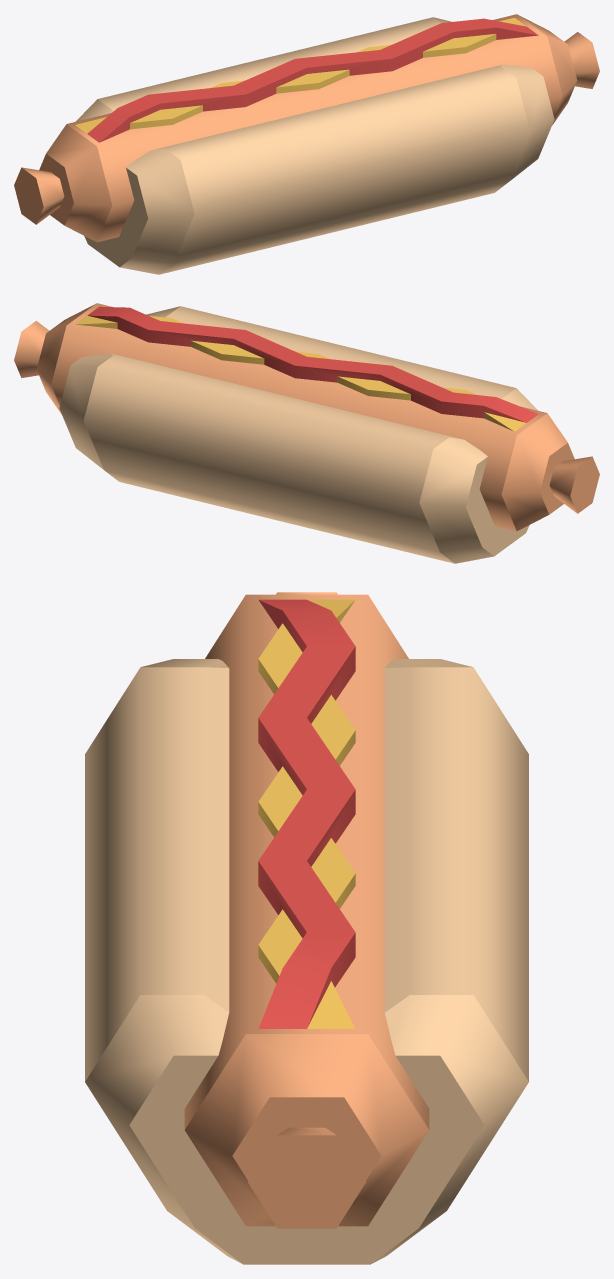
File: hot-dog.glb
3 views of the same model, one above another, from view 1: azimuth 30°, elevation 25°; view 2: azimuth 150°, elevation 25°; view 3: azimuth 270°, elevation 25° (orthographic). The views are drawn at different scales.
Parts seen in each view (by area): view 1: hotDog, sausage, sauce; view 2: hotDog, sausage, sauce; view 3: hotDog, sausage, sauce.
Boxes of the visible parts, x1,y1,x2,y2 form: hotDog: [75, 17, 554, 274]; sausage: [14, 14, 599, 242]; sauce: [75, 18, 538, 142]; hotDog: [59, 306, 538, 563]; sausage: [14, 303, 599, 531]; sauce: [75, 306, 538, 431]; hotDog: [85, 659, 528, 1264]; sausage: [184, 592, 429, 1228]; sauce: [258, 599, 355, 1028].
Bounding box in the file's own units: 0.5859 × 0.1525 × 0.2026.
